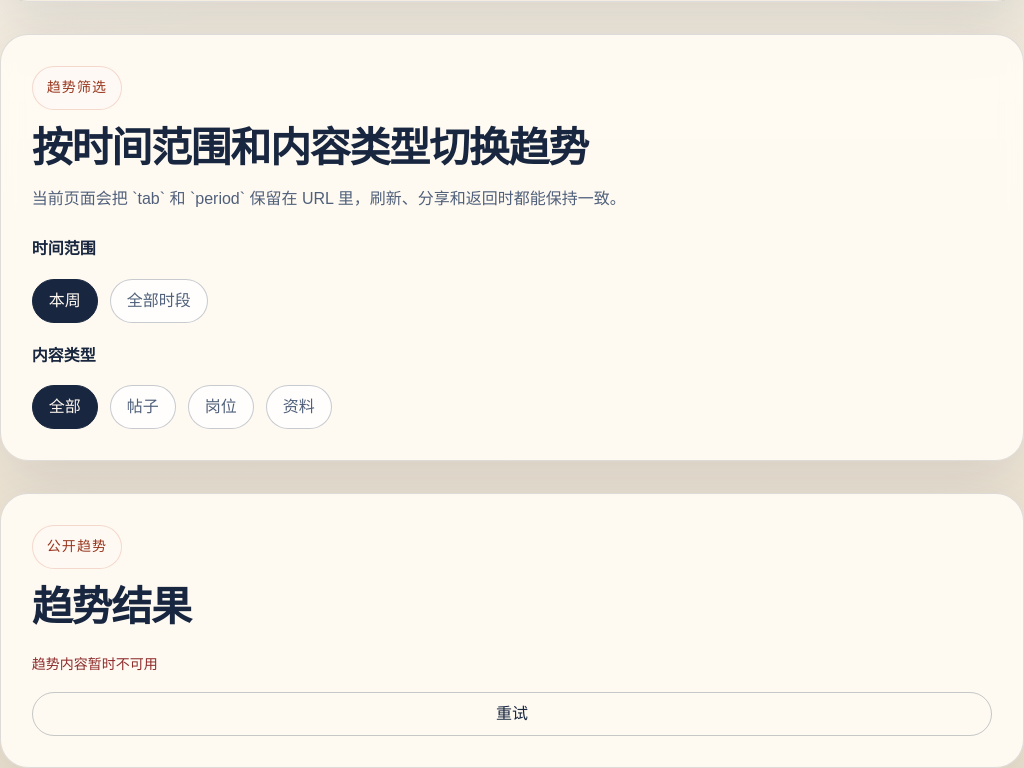
Test case: error state can retry the same discover query
The image size is (1024, 768).
(page scrolled)
Step 1. Click the button with class "ghost-btn" → (512, 714), box [32,692,992,736]
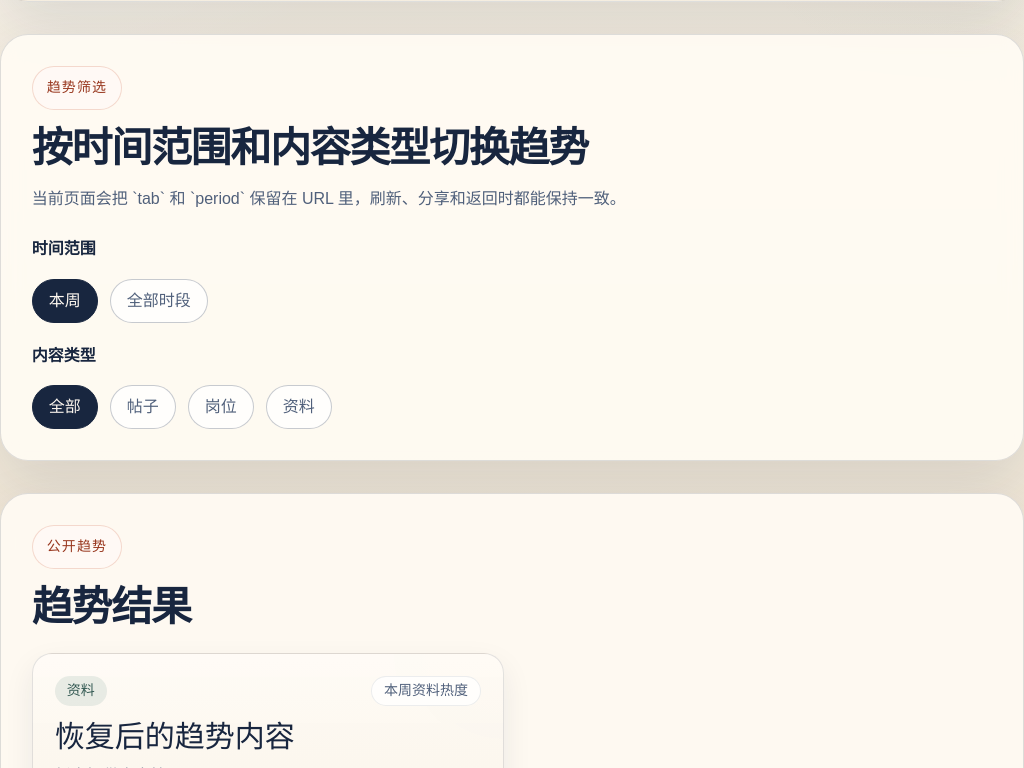
Expected: the text "恢复后的趋势内容" is shown, [55,720,295,753]
